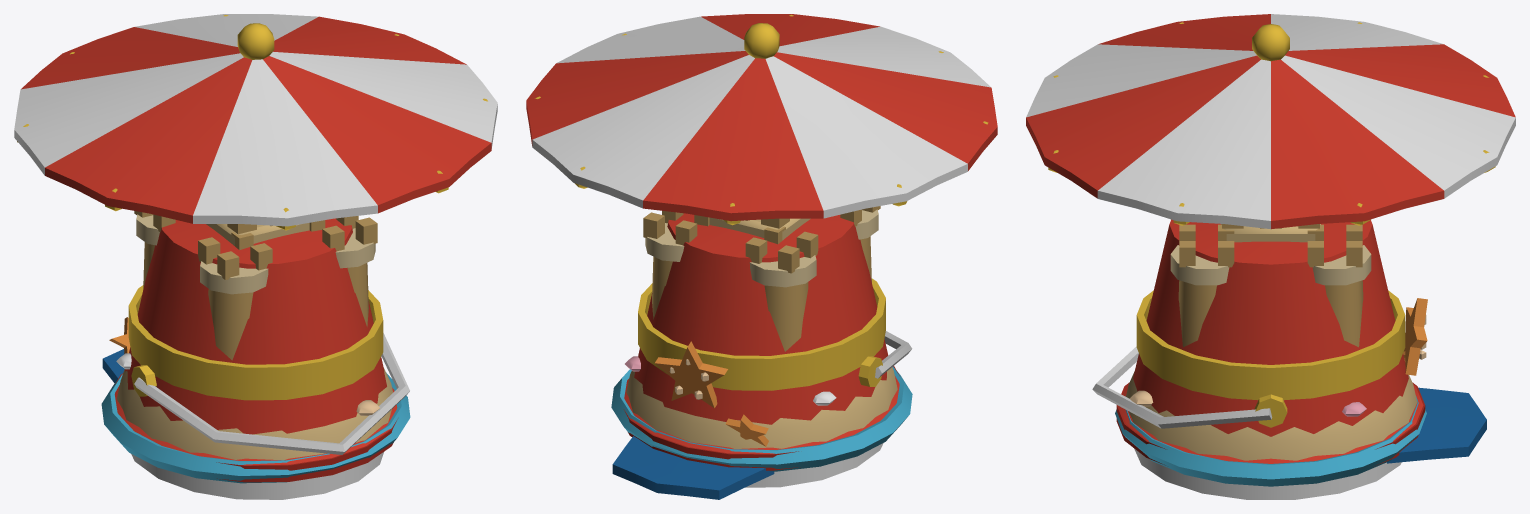
File: 2026-11-26_chapeau.glb
3 renders of one model, left to right at view 1: azimuth 30°, elevation 25°; view 2: azimuth 150°, elevation 25°; view 3: azimuth 270°, elevation 25°, orthographic. The views are drawn at different scales.
Visible parts, largest first — view 1: chapeau_chapeau_parasol, chapeau_seau_de_plage, chapeau_chateau_de_sable; view 2: chapeau_chapeau_parasol, chapeau_seau_de_plage, chapeau_chateau_de_sable; view 3: chapeau_chapeau_parasol, chapeau_seau_de_plage, chapeau_chateau_de_sable.
Part boxes in pixels (left/top/right/bottom): chapeau_chapeau_parasol: left=14, top=14, right=497, bottom=499; chapeau_seau_de_plage: left=114, top=218, right=409, bottom=482; chapeau_chateau_de_sable: left=101, top=211, right=410, bottom=483; chapeau_chapeau_parasol: left=526, top=14, right=997, bottom=499; chapeau_seau_de_plage: left=624, top=213, right=912, bottom=470; chapeau_chateau_de_sable: left=611, top=206, right=912, bottom=471; chapeau_chapeau_parasol: left=1026, top=14, right=1515, bottom=499; chapeau_seau_de_plage: left=1092, top=219, right=1427, bottom=465; chapeau_chateau_de_sable: left=1115, top=219, right=1426, bottom=486.
Size of the model in its own units: 0.54 by 0.512 by 0.54.
